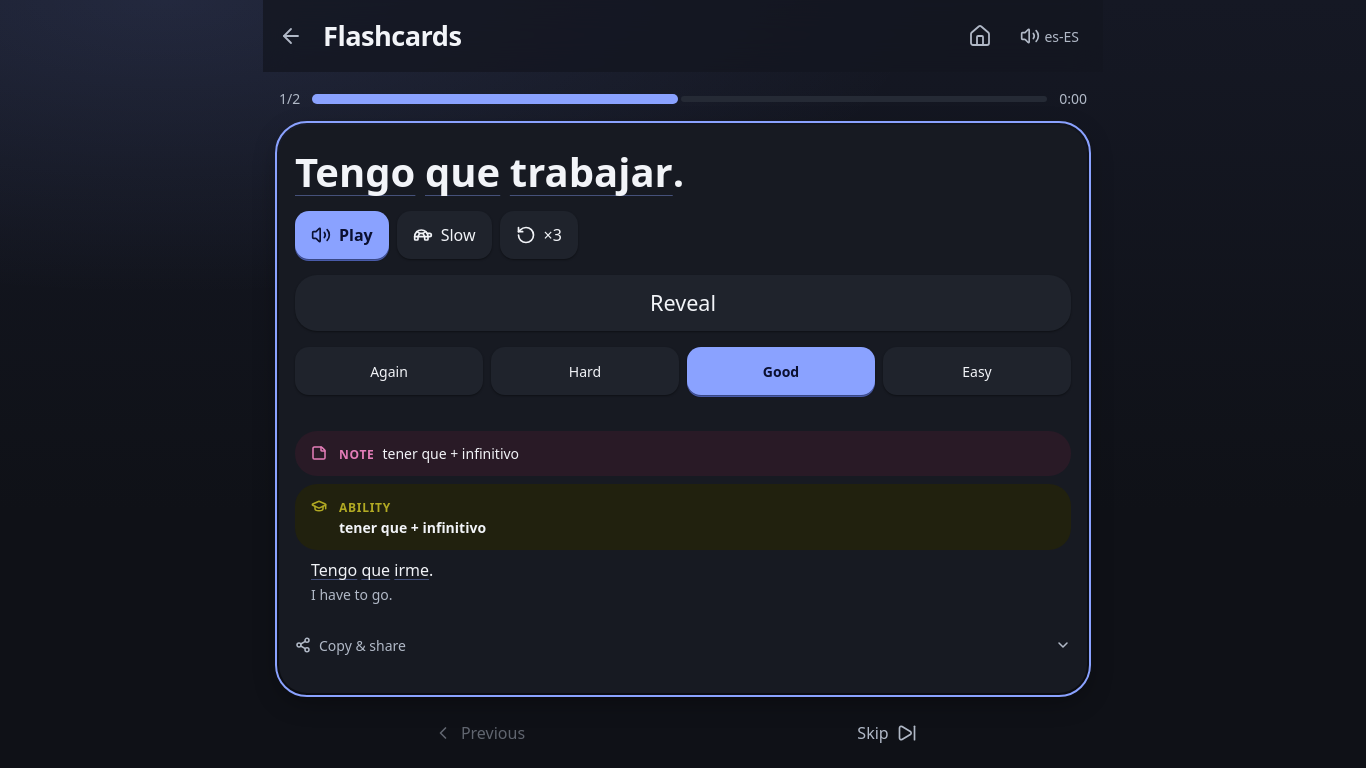
Test: during a session › reports the total and the pace once the session is over
Click the button "Reveal" at (683, 303), box [295, 275, 1071, 331]
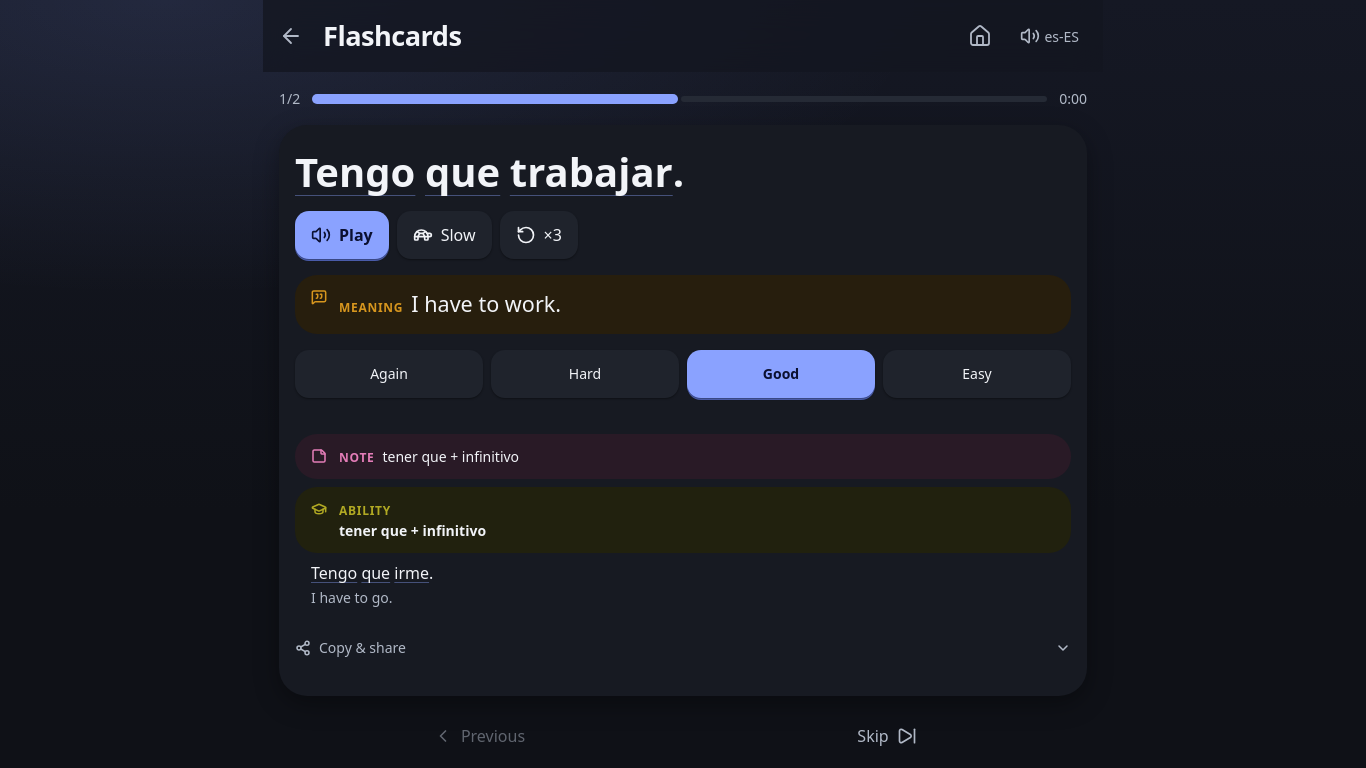
Click the button "Good" at (781, 374), box [687, 350, 875, 398]
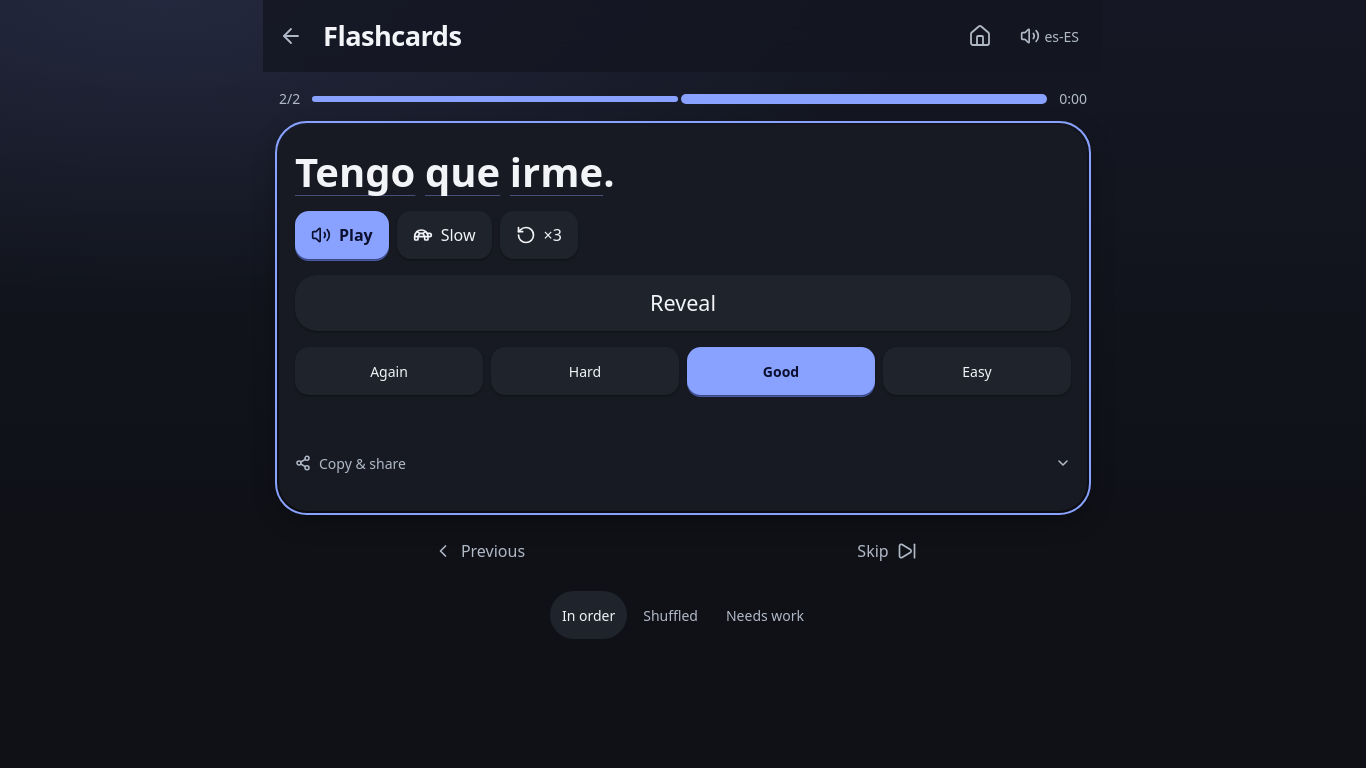
Click the button "Reveal" at (683, 303), box [295, 275, 1071, 331]
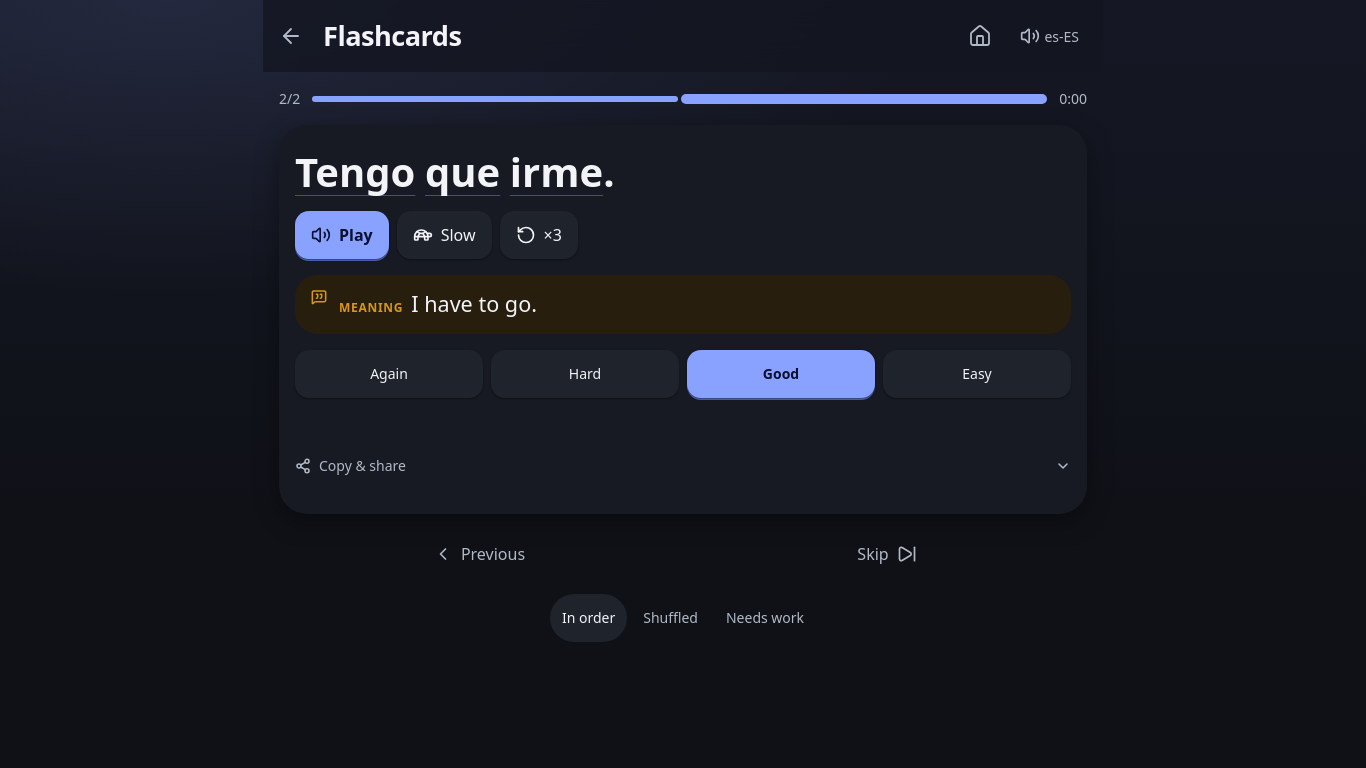
Click the button "Good" at (781, 374), box [687, 350, 875, 398]
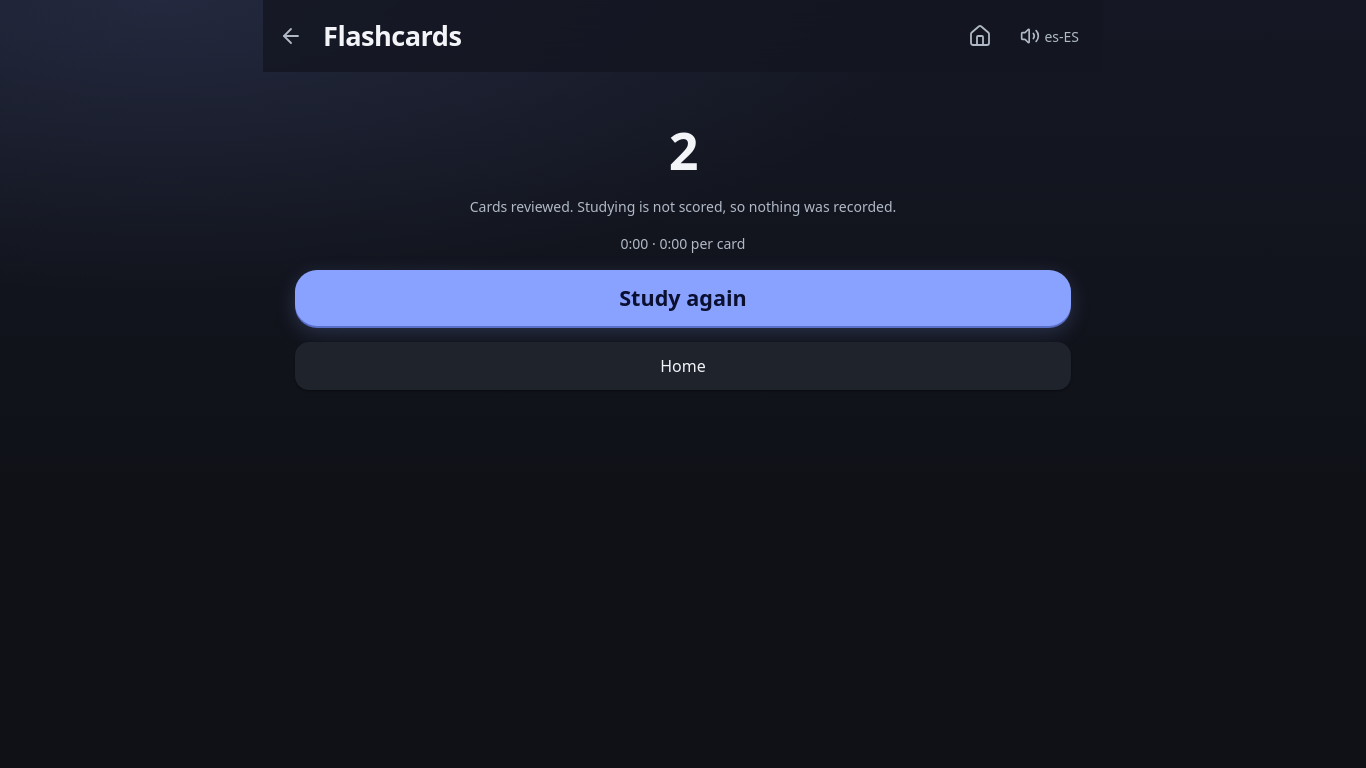
Check: the text "not scored" is shown, box [470, 197, 896, 216]
Check: the element named "Took " is shown, box [621, 233, 746, 254]
Check: the text "· 0:00 per card" is shown, box [648, 234, 745, 253]
